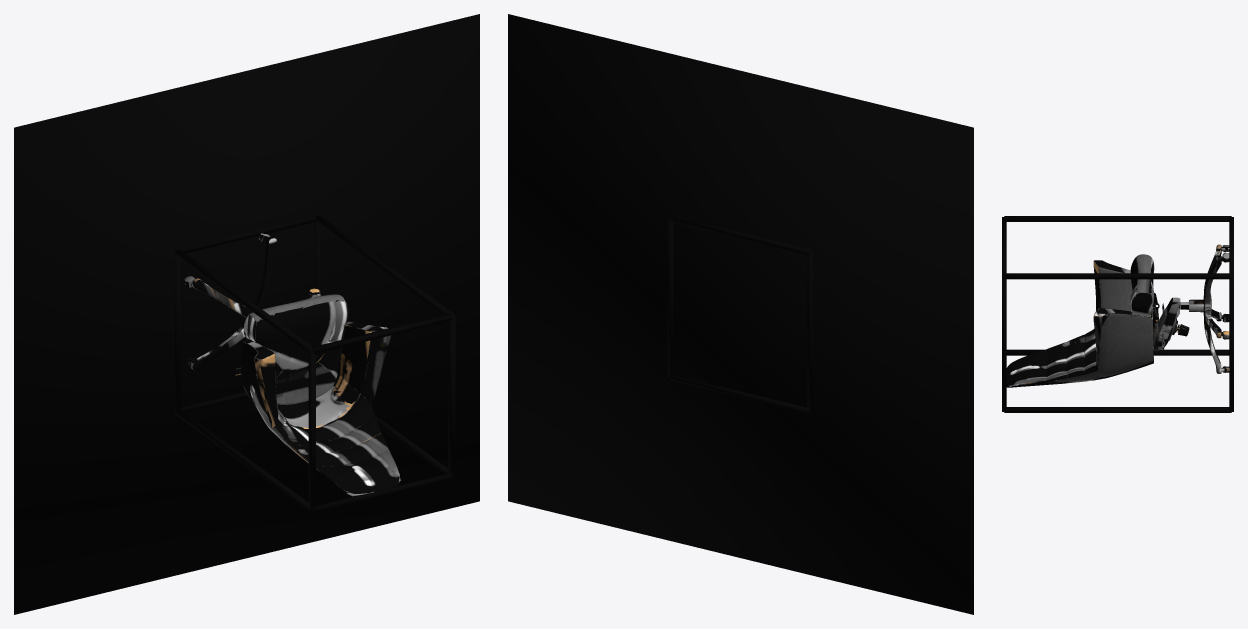
3 views of the same model, side by side, from view 1: azimuth 30°, elevation 25°; view 2: azimuth 150°, elevation 25°; view 3: azimuth 270°, elevation 25° (orthographic). The views are drawn at different scales.
Bounding box in the file's own units: 2 × 2 × 1.03.
